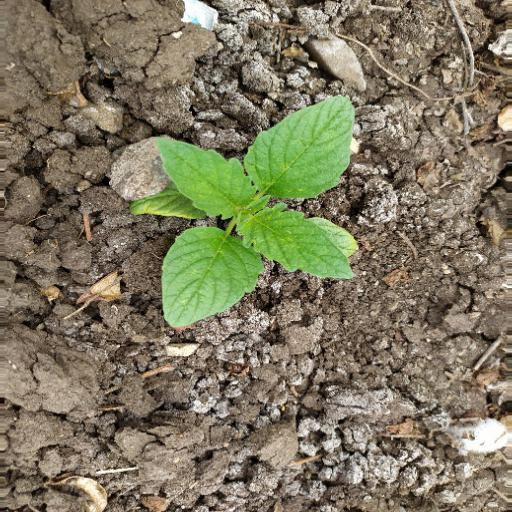crop: (125, 84, 383, 337)
